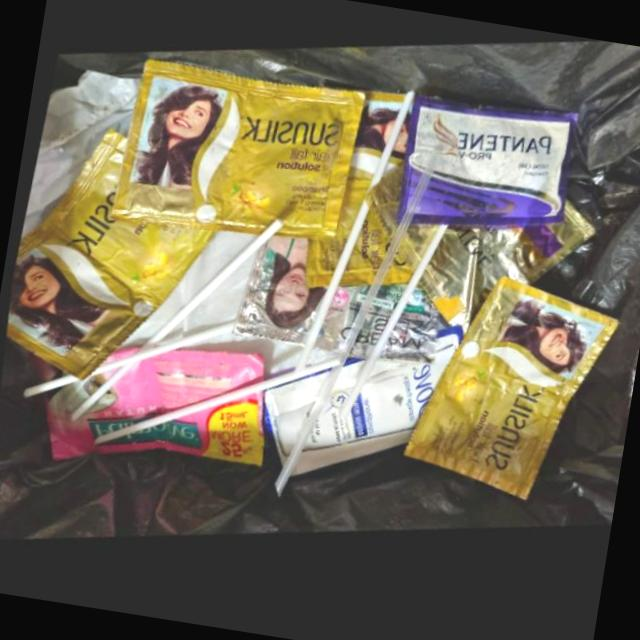goi_nhua_nho: (357, 114, 590, 353), (4, 128, 214, 383), (400, 284, 615, 510), (107, 62, 359, 246), (260, 335, 459, 496), (36, 350, 260, 471), (230, 242, 437, 372), (391, 102, 570, 236)
ong_hut_nhua: (272, 159, 434, 503), (71, 224, 279, 424), (92, 363, 339, 447), (21, 324, 232, 399)
